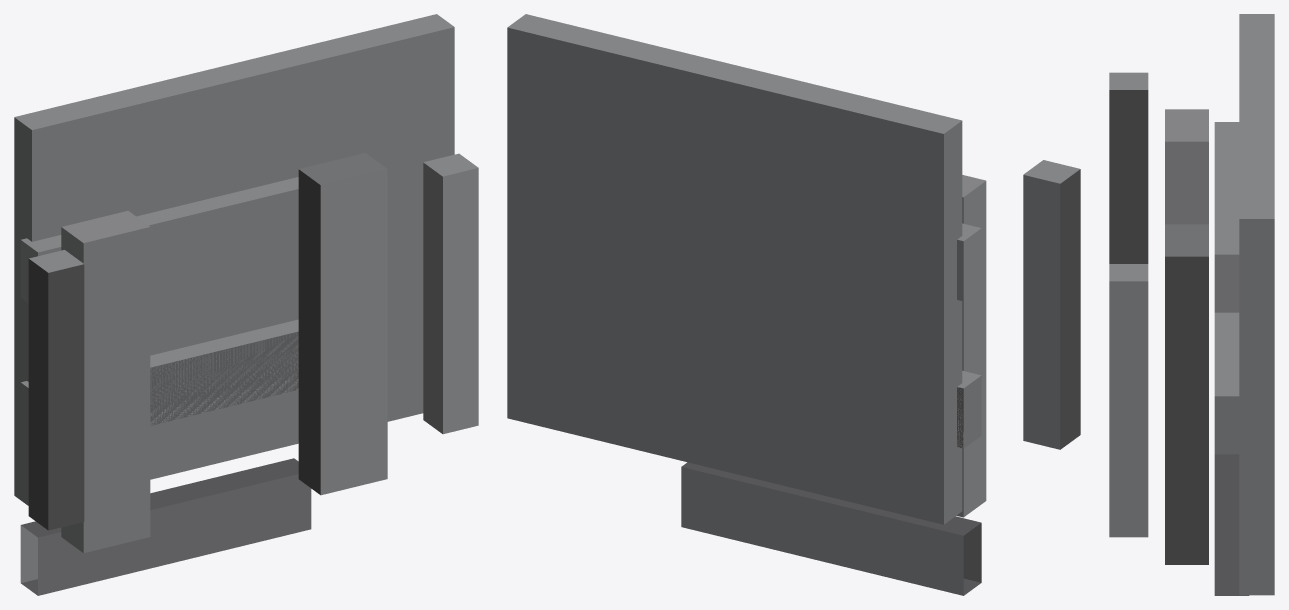
The picture shows the model from 3 angles, left to right: view 1: azimuth 30°, elevation 25°; view 2: azimuth 150°, elevation 25°; view 3: azimuth 270°, elevation 25°; orthographic projection. The views are drawn at different scales.
Size of the model in its own units: 0.5942 by 0.5479 by 0.1818.
